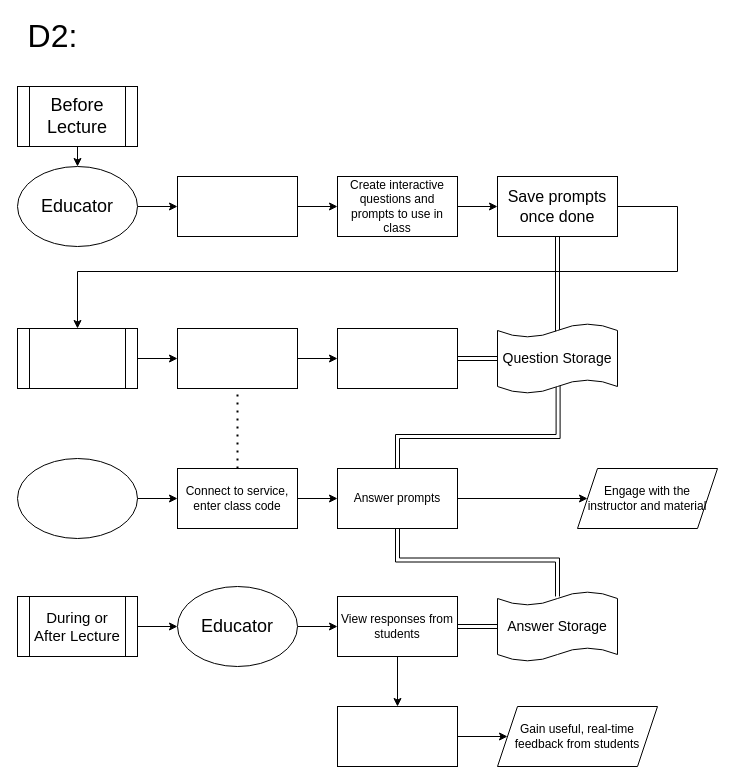
The diagram is 735 pixels wide and 784 high, and some of its shapes have lost their labels. The shapes that lost their labels are listed below. From the top down, each one's centre as x and y in pixels, then its label:
At point 237,206: "Connect to service, open class".
At point 77,358: "Start Lecture".
At point 237,358: "Provide class code to students".
At point 397,358: "Make prompts available to students".
At point 77,498: "Student".
At point 397,736: "Interpret results and use information to modify teaching if necessary".
